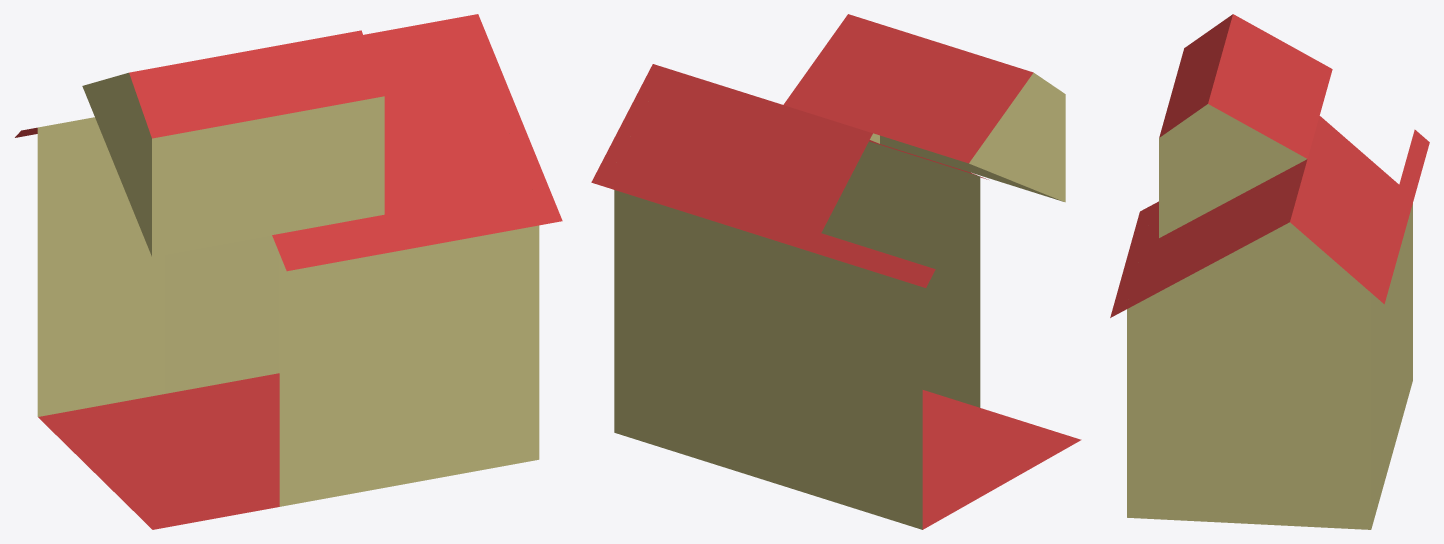
The picture shows the model from 3 angles, left to right: view 1: azimuth 30°, elevation 25°; view 2: azimuth 150°, elevation 25°; view 3: azimuth 270°, elevation 25°; orthographic projection. The views are drawn at different scales.
Bounding box in the file's own units: 13.15 × 10.54 × 13.1.
